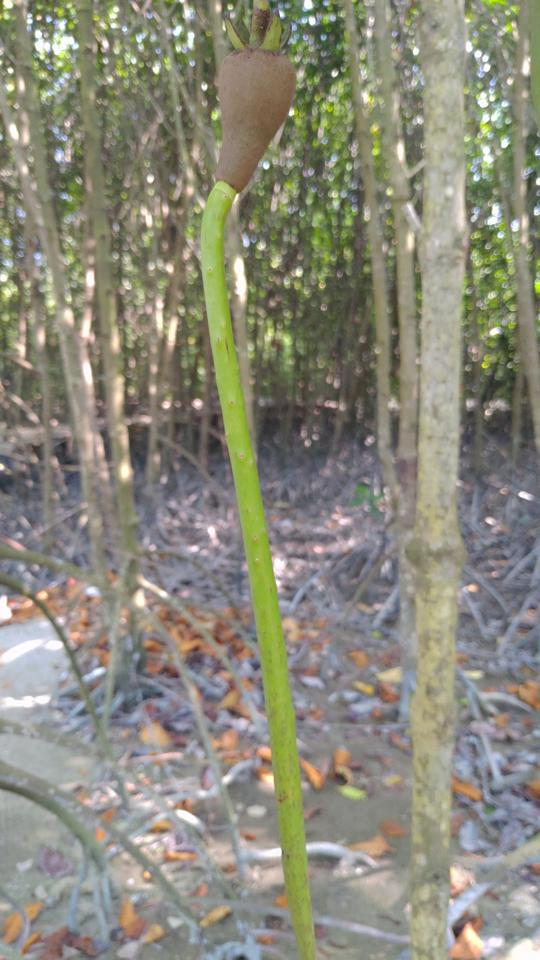setengah matang: (193, 15, 341, 958)
